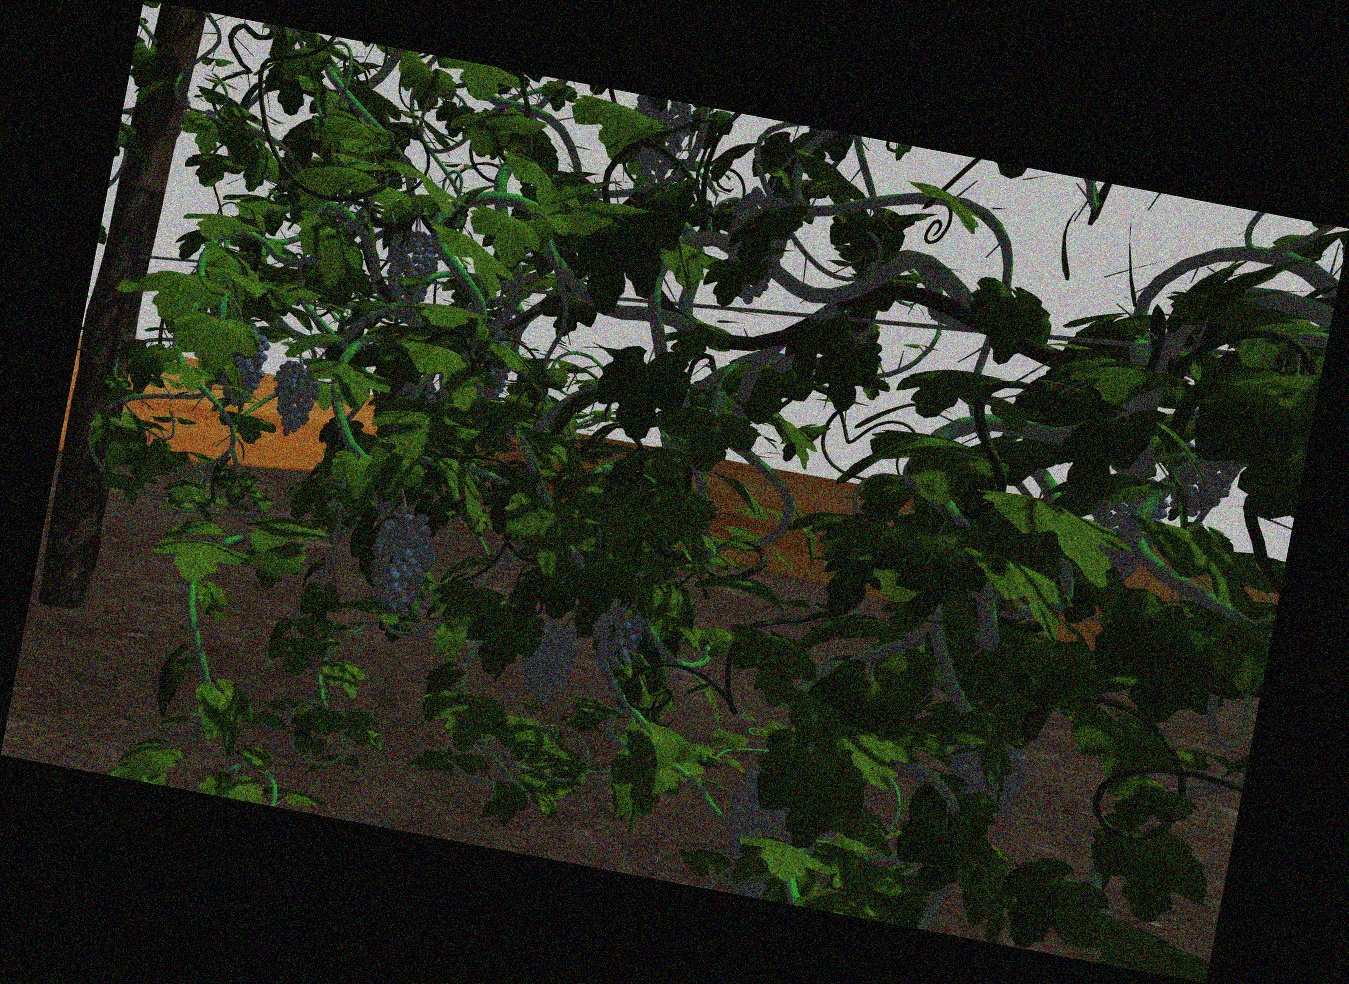grape: (724, 760, 795, 893), (369, 508, 432, 617), (519, 625, 574, 713), (271, 360, 320, 441), (384, 233, 436, 305), (590, 607, 644, 669), (224, 334, 265, 404)
